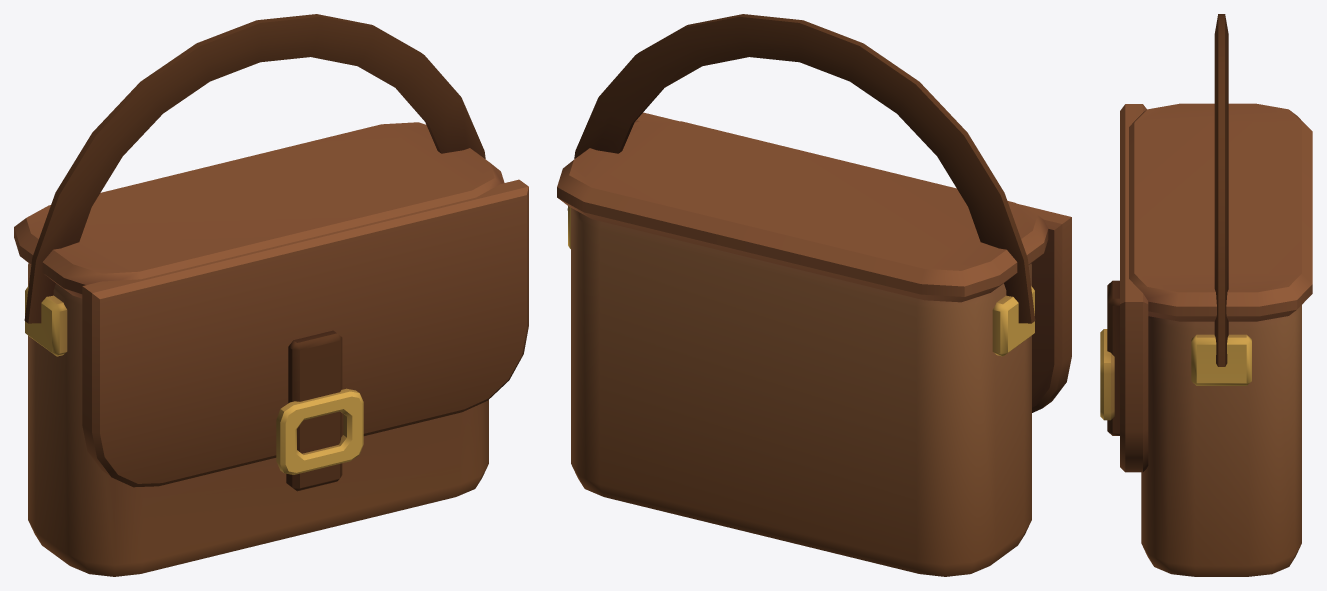
Rendered from satchel.glb.
The picture shows the model from 3 angles, left to right: view 1: azimuth 30°, elevation 25°; view 2: azimuth 150°, elevation 25°; view 3: azimuth 270°, elevation 25°; orthographic projection. The views are drawn at different scales.
Parts seen in each view (by area): view 1: satchel; view 2: satchel; view 3: satchel.
Part boxes in pixels (x1,y1,x2,y2): satchel: [14, 14, 528, 576]; satchel: [557, 14, 1071, 576]; satchel: [1100, 14, 1312, 576].
Bounding box in the file's own units: 0.2783 × 0.2813 × 0.119.
